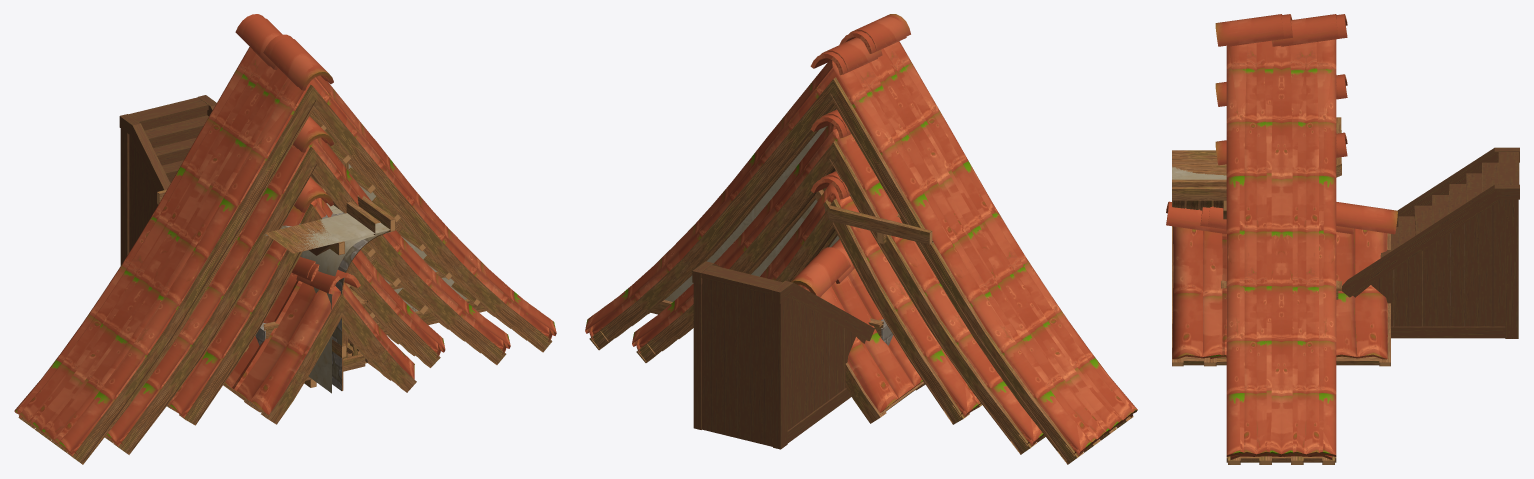
The model's file is house-kit.gltf.
3 views of the same model, side by side, from view 1: azimuth 30°, elevation 25°; view 2: azimuth 150°, elevation 25°; view 3: azimuth 270°, elevation 25° (orthographic). The views are drawn at different scales.
Parts seen in each view (by area): view 1: Roof_Modular_RoundTiles_8_R, Roof_Modular_RoundTiles_8_L, Roof_2x4_RoundTile, Roof_Modular_RoundTiles_6_L, Roof_Modular_RoundTiles_8_Mid, Roof_Modular_RoundTiles_6_R, Stair_Interior_Solid, Roof_Modular_RoundTiles_4_L, Roof_Modular_RoundTiles_4_R, Overhang_UnevenBrick_Corner, Roof_Front_Brick8, Overhang_UnevenBrick_Long (+6 smaller); view 2: Roof_Modular_RoundTiles_8_R, Stair_Interior_Solid, Roof_Modular_RoundTiles_8_L, Roof_Modular_RoundTiles_6_R, Roof_Modular_RoundTiles_8_Mid, Roof_2x4_RoundTile, Roof_Modular_RoundTiles_6_L, Roof_Modular_RoundTiles_4_R, Roof_Modular_RoundTiles_4_L, Roof_Front_Brick8, Overhang_UnevenBrick_Corner, Roof_Modular_RoundTiles_6_Mid (+1 smaller); view 3: Roof_Modular_RoundTiles_8_R, Stair_Interior_Solid, Roof_Modular_RoundTiles_8_L, Roof_2x4_RoundTile, Roof_Modular_RoundTiles_8_Mid, Overhang_UnevenBrick_Corner, Overhang_WoodWear_Long, Roof_RoundTile_2x1, Overhang_WoodWear_Corner, Overhang_UnevenBrick_Long.
Boxes of the visible parts, <box> form: Roof_Modular_RoundTiles_8_R: <box>18,17,556,462</box>; Roof_Modular_RoundTiles_8_L: <box>15,14,552,464</box>; Roof_2x4_RoundTile: <box>225,256,416,424</box>; Roof_Modular_RoundTiles_6_L: <box>104,137,506,454</box>; Roof_Modular_RoundTiles_8_Mid: <box>14,14,556,462</box>; Roof_Modular_RoundTiles_6_R: <box>107,116,510,449</box>; Stair_Interior_Solid: <box>119,95,216,265</box>; Roof_Modular_RoundTiles_4_L: <box>167,197,440,425</box>; Roof_Modular_RoundTiles_4_R: <box>169,177,445,421</box>; Overhang_UnevenBrick_Corner: <box>157,189,395,393</box>; Roof_Front_Brick8: <box>309,115,487,334</box>; Overhang_UnevenBrick_Long: <box>264,206,390,255</box>; Roof_Modular_RoundTiles_8_R: <box>589,14,1137,464</box>; Stair_Interior_Solid: <box>692,261,875,449</box>; Roof_Modular_RoundTiles_8_L: <box>585,31,1133,462</box>; Roof_Modular_RoundTiles_6_R: <box>636,109,1045,454</box>; Roof_Modular_RoundTiles_8_Mid: <box>585,34,1137,460</box>; Roof_2x4_RoundTile: <box>791,239,923,423</box>; Roof_Modular_RoundTiles_6_L: <box>632,115,1043,453</box>; Roof_Modular_RoundTiles_4_R: <box>767,171,981,424</box>; Roof_Modular_RoundTiles_4_L: <box>760,176,979,422</box>; Roof_Front_Brick8: <box>649,109,839,314</box>; Overhang_UnevenBrick_Corner: <box>815,189,933,244</box>; Roof_Modular_RoundTiles_6_Mid: <box>632,115,1043,449</box>; Roof_Modular_RoundTiles_8_R: <box>1215,14,1338,464</box>; Stair_Interior_Solid: <box>1342,147,1519,338</box>; Roof_Modular_RoundTiles_8_L: <box>1227,14,1347,464</box>; Roof_2x4_RoundTile: <box>1166,201,1397,366</box>; Roof_Modular_RoundTiles_8_Mid: <box>1226,14,1347,462</box>; Overhang_UnevenBrick_Corner: <box>1172,117,1341,219</box>; Overhang_WoodWear_Long: <box>1172,150,1226,175</box>; Roof_RoundTile_2x1: <box>1200,207,1226,366</box>; Overhang_WoodWear_Corner: <box>1172,200,1223,226</box>; Overhang_UnevenBrick_Long: <box>1172,166,1226,179</box>.
Size of the model in its own units: 10.13 by 6.88 by 6.46.
Materials: 8 (7 with a texture image).
